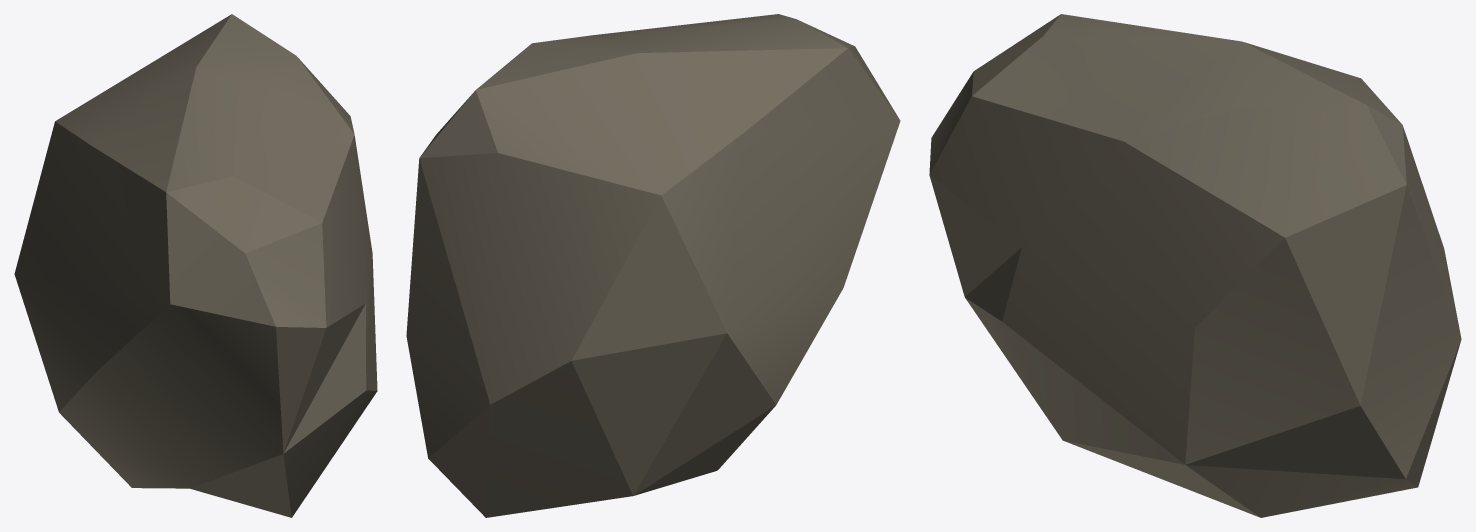
3 views of the same model, side by side, from view 1: azimuth 30°, elevation 25°; view 2: azimuth 150°, elevation 25°; view 3: azimuth 270°, elevation 25° (orthographic).
Visible parts, largest first — view 1: mff_stone_0; view 2: mff_stone_0; view 3: mff_stone_0.
Part boxes in pixels (bbox=[...]): mff_stone_0: bbox=[14, 14, 377, 517]; mff_stone_0: bbox=[406, 14, 900, 517]; mff_stone_0: bbox=[929, 14, 1461, 517].
Bounding box in the file's own units: 1.06 × 1.36 × 1.47.
1 material, 1 textured.
